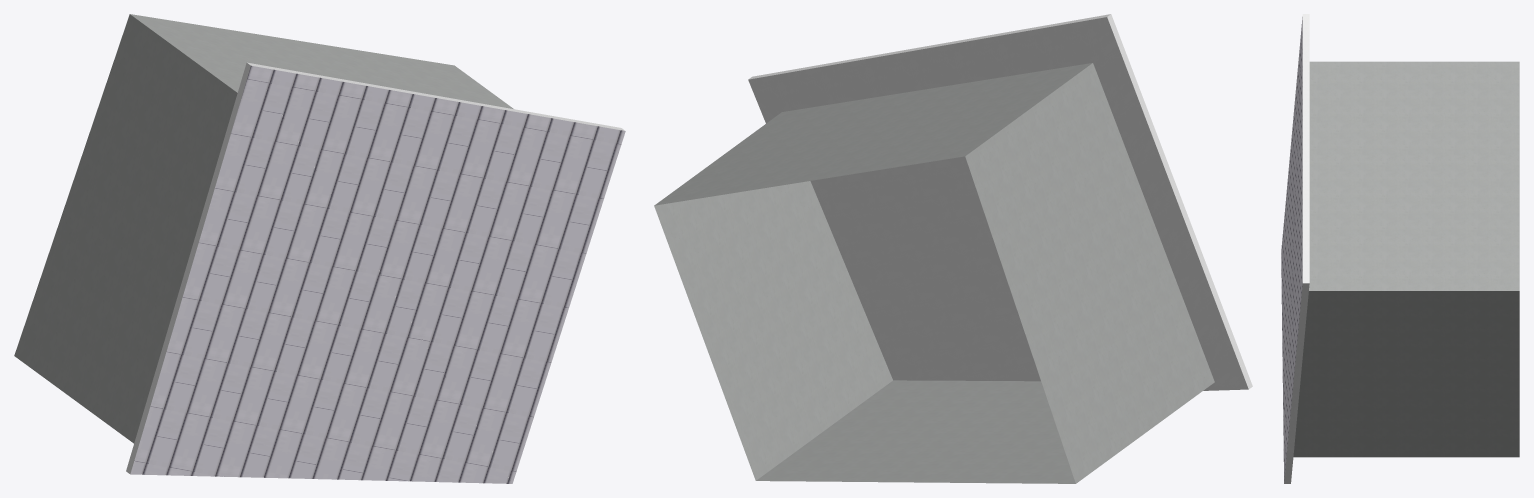
Rendered from Laboratooriumi_14a-origo.obj.
The picture shows the model from 3 angles, left to right: view 1: azimuth 30°, elevation 25°; view 2: azimuth 150°, elevation 25°; view 3: azimuth 270°, elevation 25°; orthographic projection. The views are drawn at different scales.
Visible parts, largest first — view 1: Laboratooriumi_14a; view 2: Laboratooriumi_14a; view 3: Laboratooriumi_14a.
Part boxes in pixels (x1,y1,x2,y2): Laboratooriumi_14a: [14, 14, 625, 483]; Laboratooriumi_14a: [654, 14, 1252, 483]; Laboratooriumi_14a: [1281, 14, 1519, 483].
Size of the model in its own units: 10.19 by 9 by 5.21.
